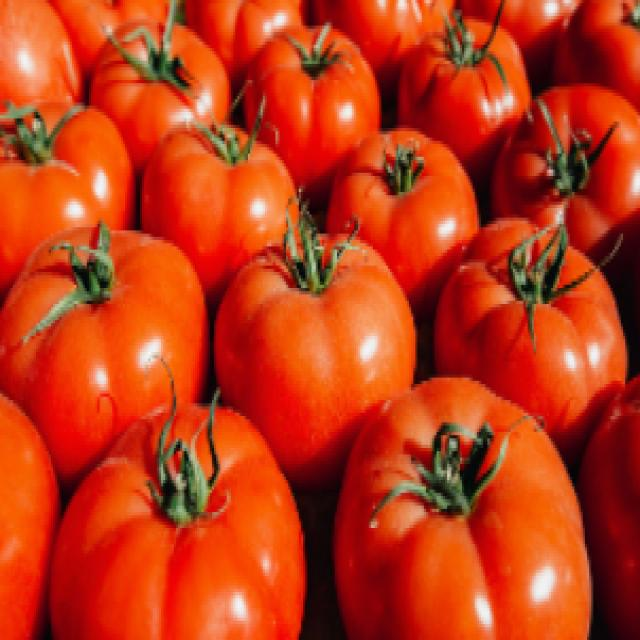Tomato: (45, 397, 324, 640), (339, 384, 601, 640), (230, 198, 412, 480), (441, 205, 624, 451)
